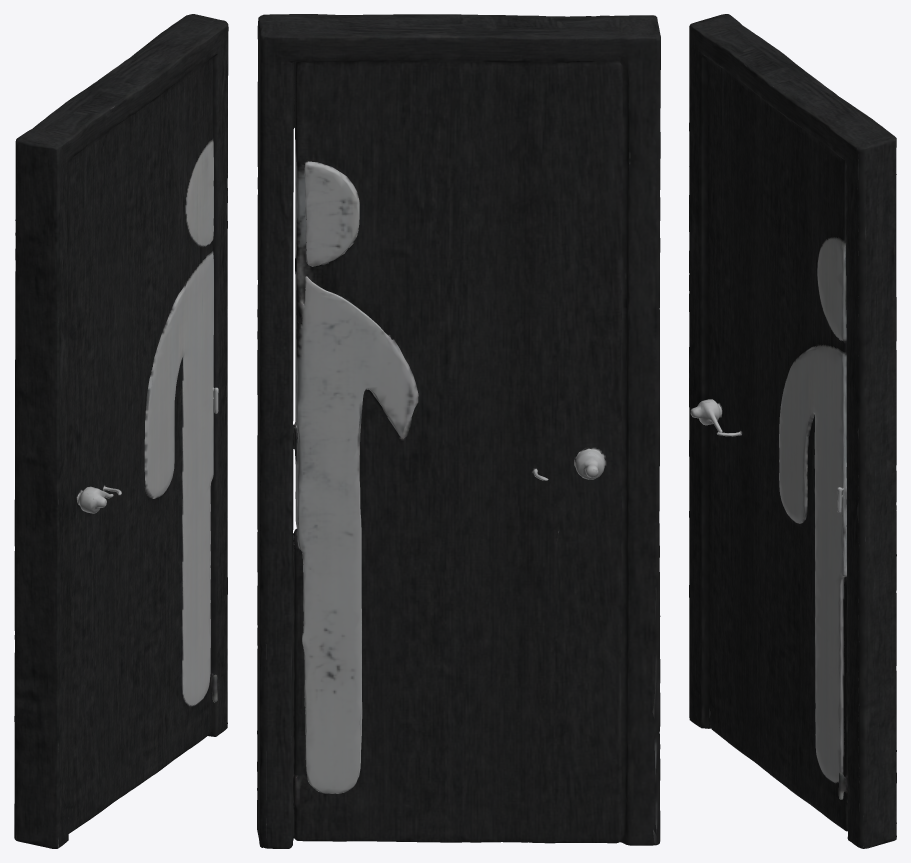
The model's file is cua.glb.
3 renders of one model, left to right at view 1: azimuth 30°, elevation 25°; view 2: azimuth 150°, elevation 25°; view 3: azimuth 270°, elevation 25°, orthographic. The views are drawn at different scales.
Bounding box in the file's own units: 0.3491 × 0.8413 × 0.2258.
Materials: 1 (1 with a texture image).
